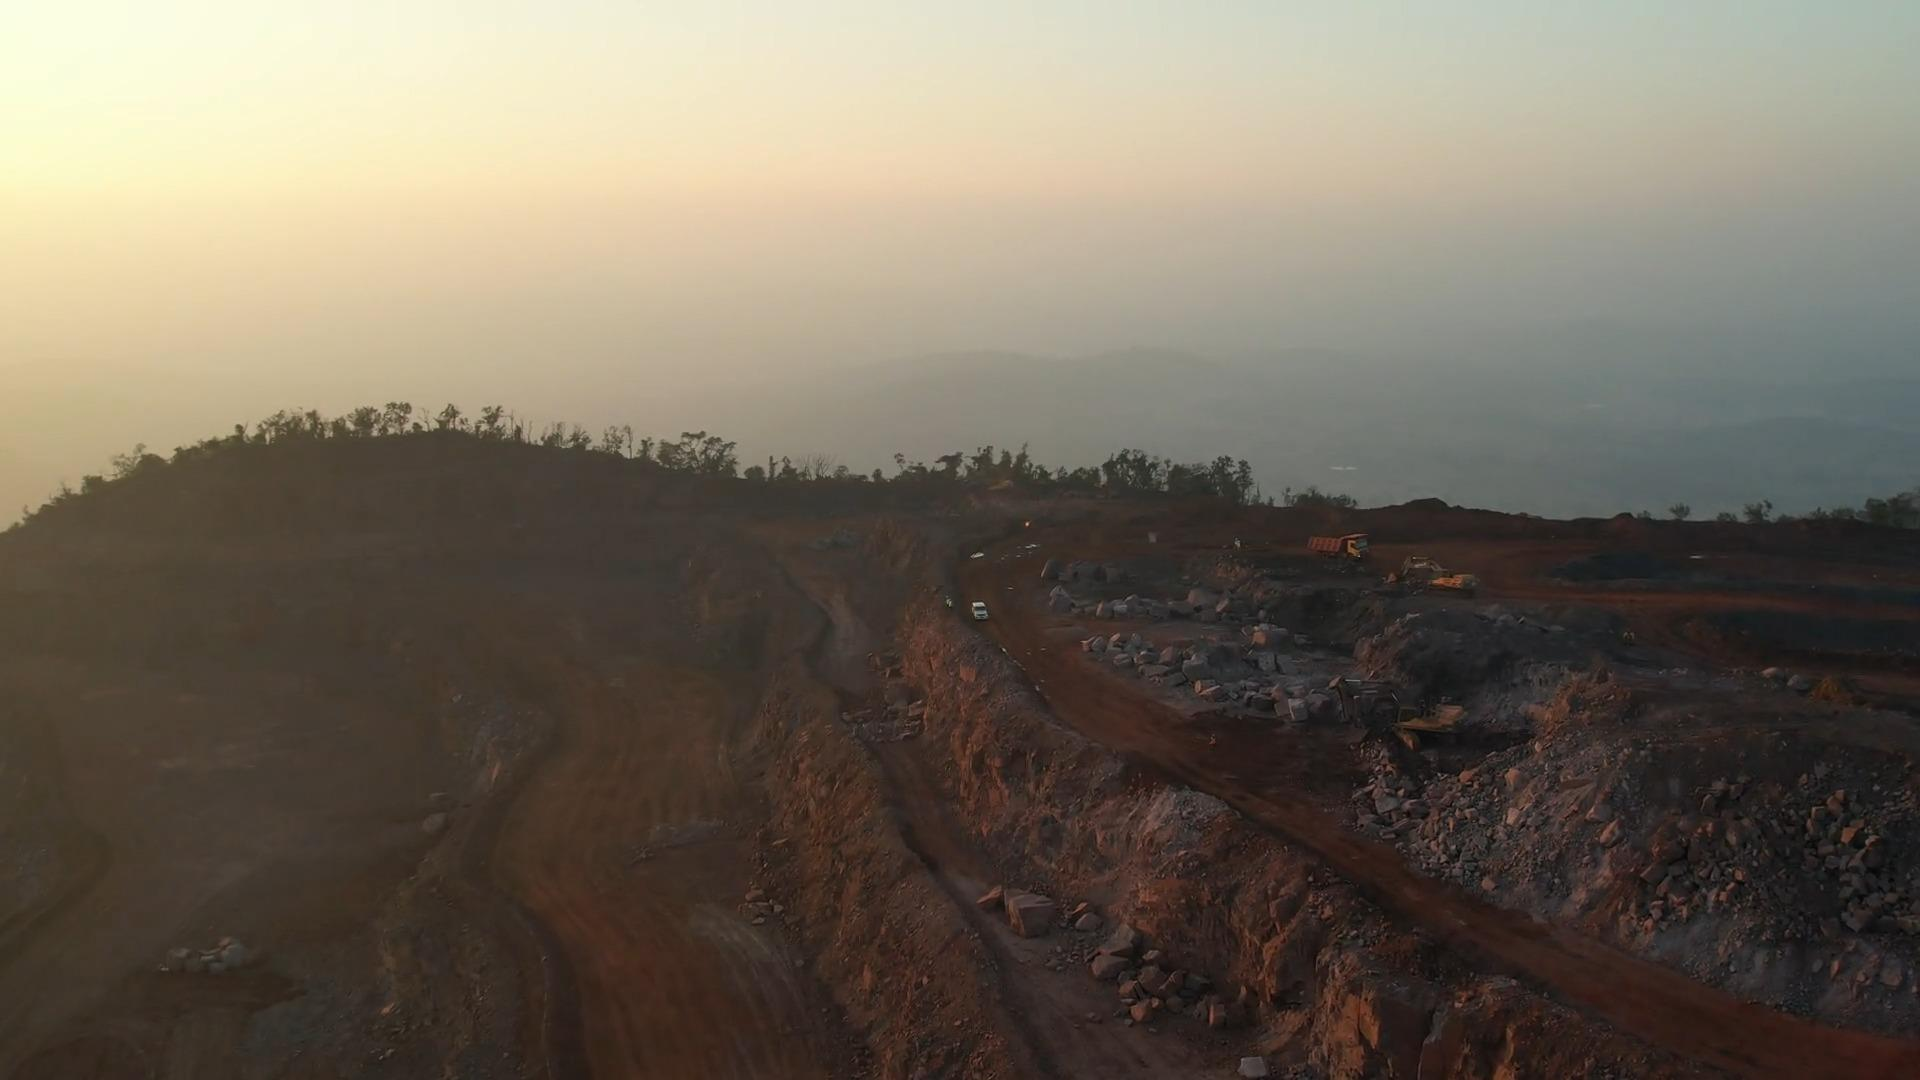excavator: (1335, 676, 1468, 746), (1393, 554, 1480, 595)
